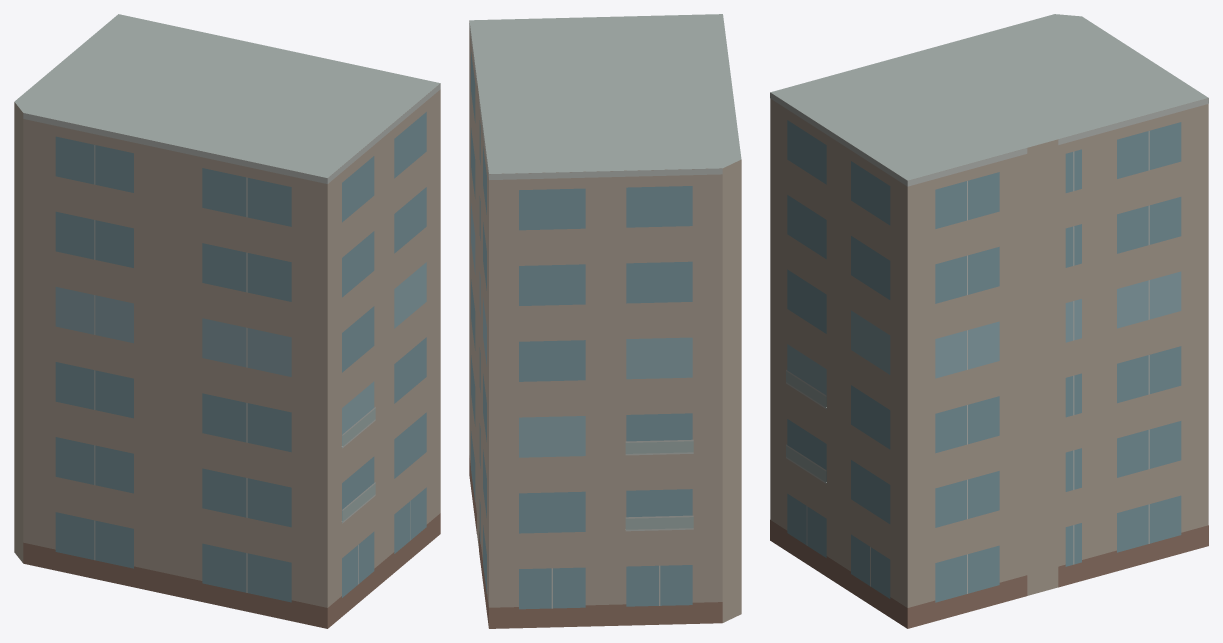
Rendered from survey-upis-32724694.glb.
3 views of the same model, side by side, from view 1: azimuth 30°, elevation 25°; view 2: azimuth 150°, elevation 25°; view 3: azimuth 270°, elevation 25° (orthographic).
Visible parts, largest first — view 1: survey-upis-32724694.tmp; view 2: survey-upis-32724694.tmp; view 3: survey-upis-32724694.tmp.
Part boxes in pixels (left/top/right/bottom): survey-upis-32724694.tmp: left=14, top=14, right=440, bottom=628; survey-upis-32724694.tmp: left=469, top=14, right=741, bottom=628; survey-upis-32724694.tmp: left=770, top=14, right=1208, bottom=628.
Bounding box in the file's own units: 14.61 × 18.3 × 16.24.
